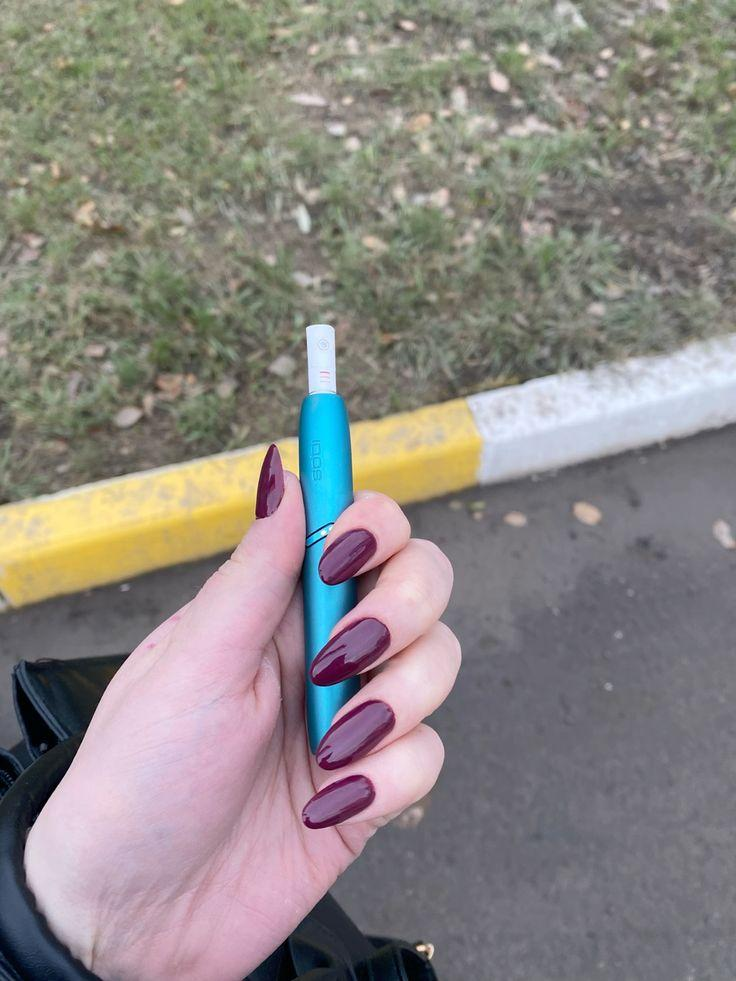iqos: (298, 324, 358, 751)
